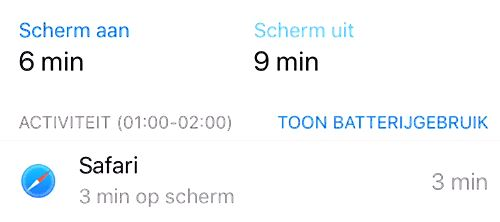activity: (9, 105, 238, 134)
app: (8, 147, 500, 221)
